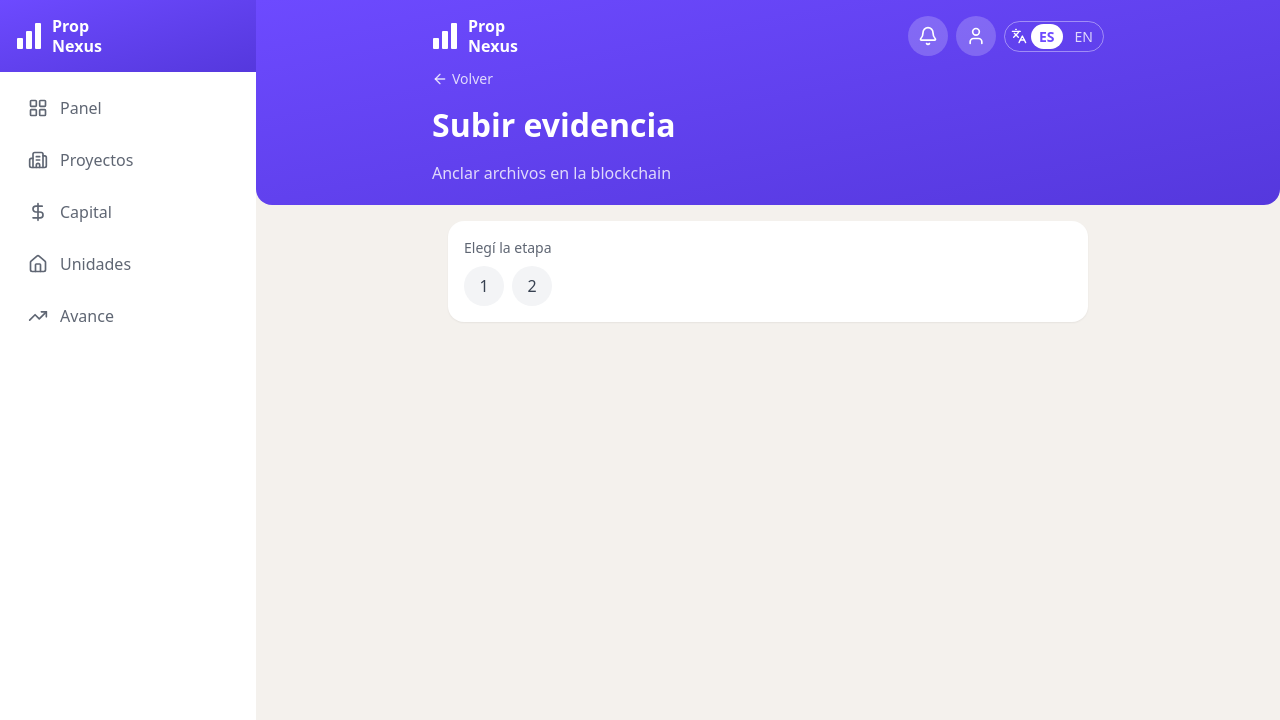
Test: /developer/project/$projectId/upload › elegir una etapa muestra su número y nombre, y el botón de anclar deshabilitado sin archivos
Click the button "2": click(532, 286) x1=512 y1=266 x2=552 y2=306
(page scrolled)
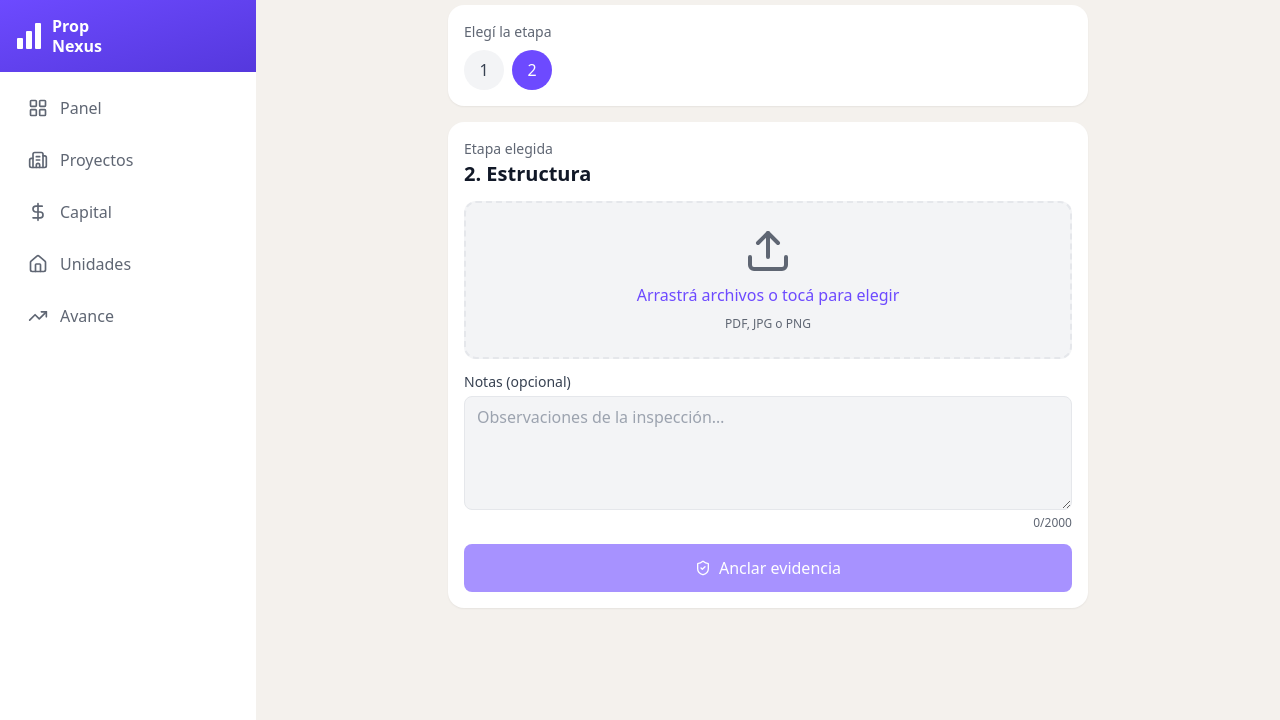
Now the text "Etapa elegida" is shown, box x1=464 y1=139 x2=553 y2=158
Now the text "2. Estructura" is shown, box x1=464 y1=160 x2=591 y2=187
Now the button "Anclar evidencia" is disabled, box x1=464 y1=544 x2=1072 y2=592
